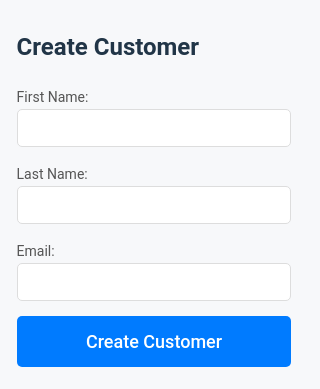
Test: CreateCustomer Component › submits form with valid data
Type "John" into the field labelled "First Name:" at (154, 128), box left=17, top=109, right=292, bottom=147
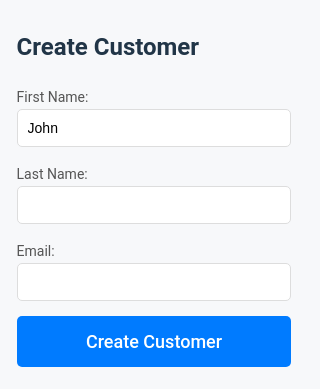
Type "Doe" into the field labelled "Last Name:" at (154, 205), box left=17, top=186, right=292, bottom=224
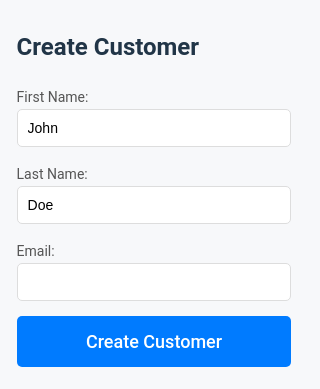
Type "john.doe@example.com" into the field labelled "Email:" at (154, 282), box left=17, top=263, right=292, bottom=301
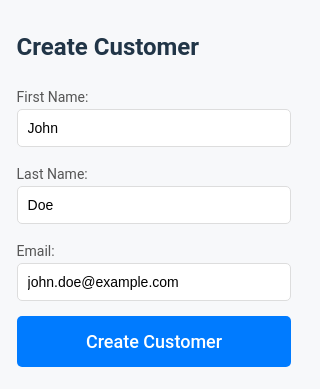
Click the button "Create Customer" at (154, 341), box left=17, top=316, right=292, bottom=367
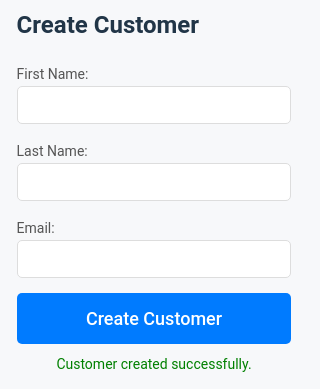
Check: the text "Customer created successfully." is shown, box left=56, top=356, right=252, bottom=372
